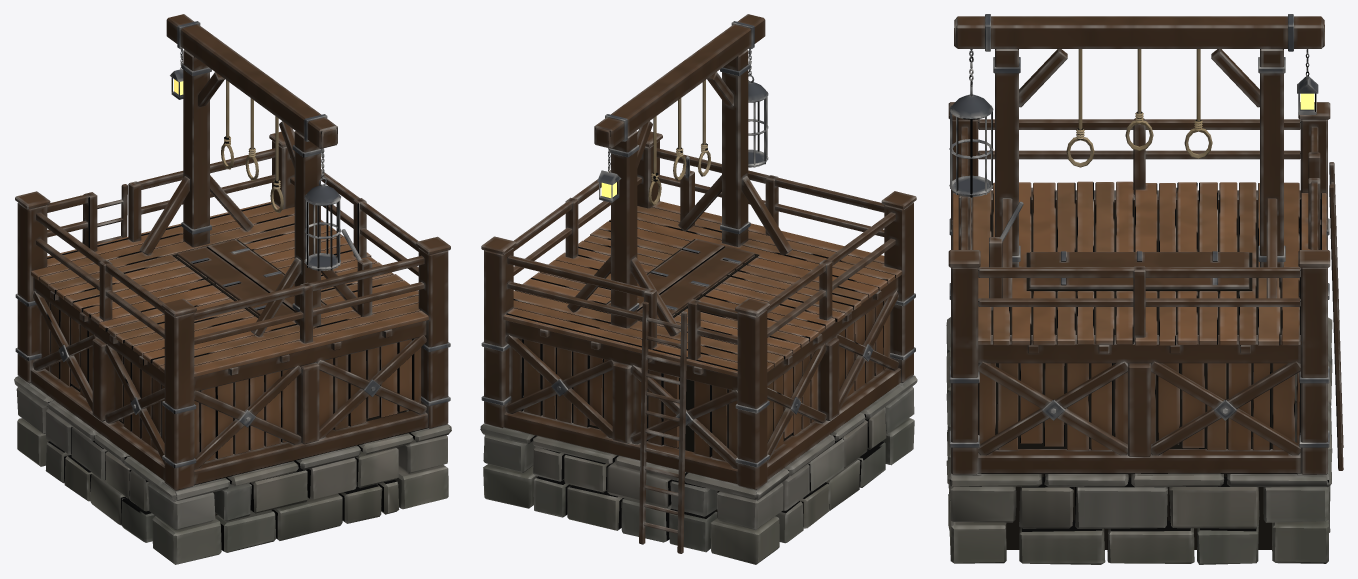
The model's file is gallows_gallows.glb.
The picture shows the model from 3 angles, left to right: view 1: azimuth 30°, elevation 25°; view 2: azimuth 150°, elevation 25°; view 3: azimuth 270°, elevation 25°; orthographic projection. The views are drawn at different scales.
Visible parts, largest first — view 1: gallows_gallows; view 2: gallows_gallows; view 3: gallows_gallows.
Boxes of the visible parts, <box> form: gallows_gallows: <box>14,14,451,564</box>; gallows_gallows: <box>480,14,917,564</box>; gallows_gallows: <box>946,14,1343,564</box>.
Bounding box in the file's own units: 5.1 × 6.96 × 5.24.
Materials: 2 (1 with a texture image).
